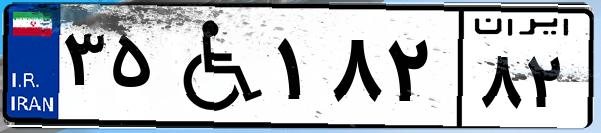1: (270, 28, 330, 110)
2: (385, 28, 445, 110), (525, 38, 570, 115)
3: (57, 26, 110, 100)
5: (110, 28, 158, 98)
8: (330, 28, 385, 110), (475, 38, 525, 113)
ژ (معلولین و جانبازان): (158, 12, 270, 120)
